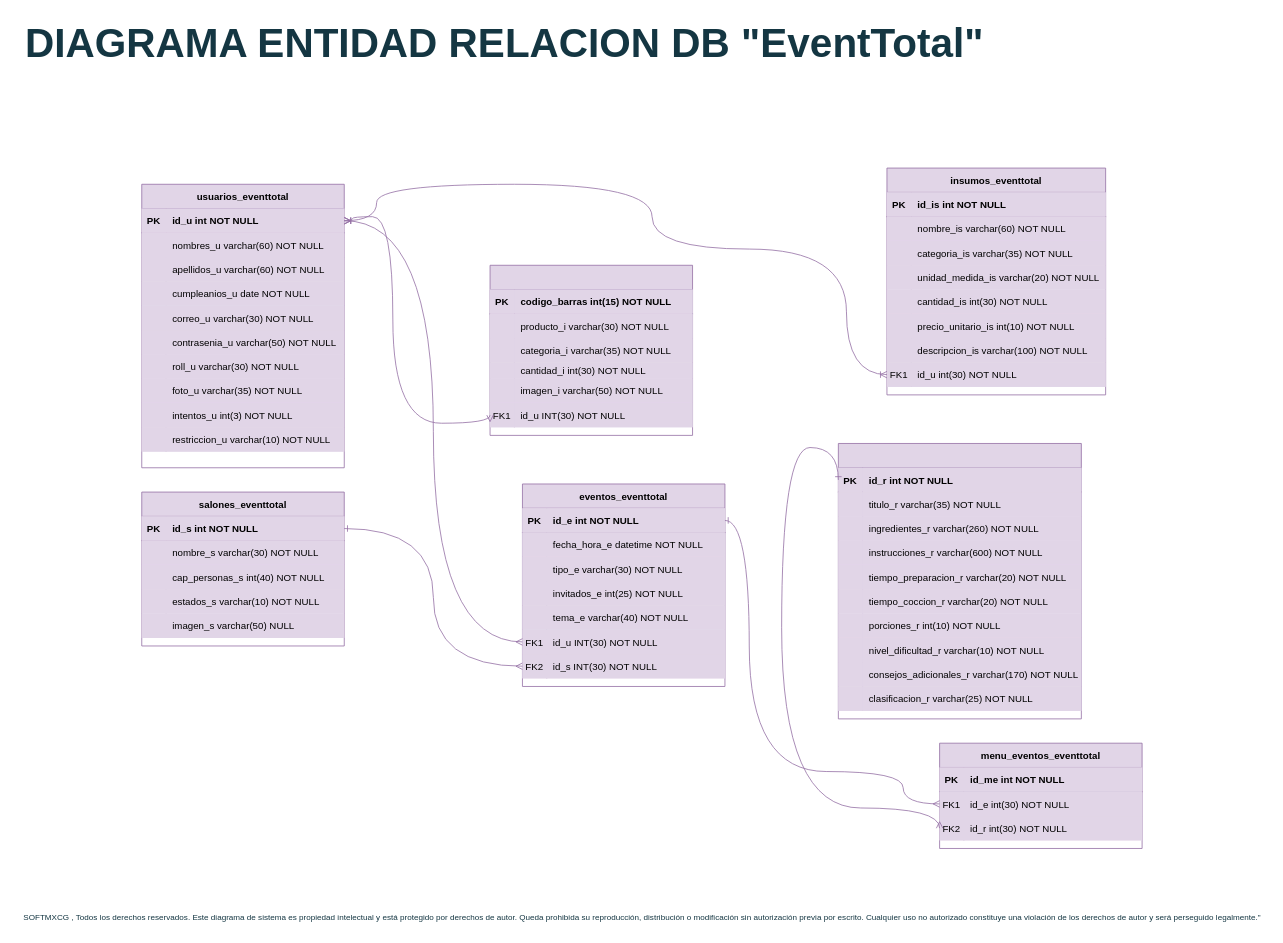
This 1283x943 diagram has some shape labels left out. The shapes that lost their labels are listed below. From the top down, each one's box as (x1, y1, x2, y2) in pixels, then its label:
(489, 264, 693, 435): inventario_eventtotal
(838, 443, 1081, 719): recetario_eventtotal
